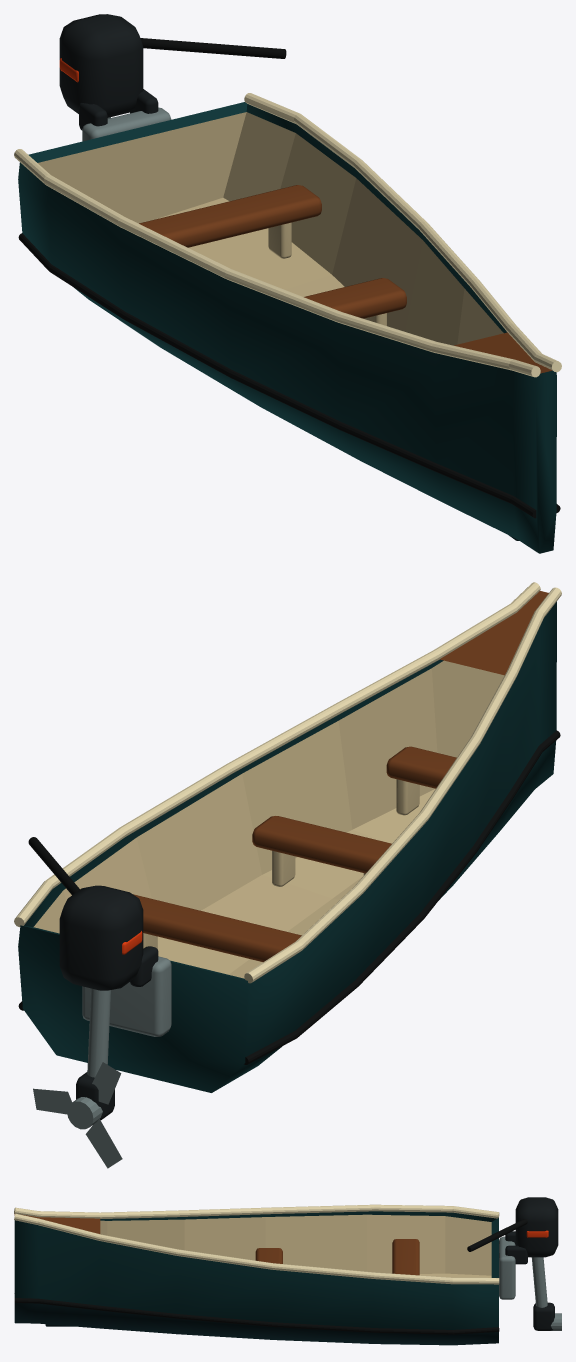
The model's file is low_poly_skiff.glb.
3 renders of one model, top to bottom at view 1: azimuth 30°, elevation 25°; view 2: azimuth 150°, elevation 25°; view 3: azimuth 270°, elevation 25°, orthographic. The views are drawn at different scales.
Visible parts, largest first — view 1: Skiff; view 2: Skiff; view 3: Skiff.
Boxes of the visible parts, x1=… form: Skiff: x1=14, y1=14, x2=561, y2=553; Skiff: x1=14, y1=582, x2=561, y2=1168; Skiff: x1=14, y1=1197, x2=561, y2=1345.
Bounding box in the file's own units: 1.48 × 1.41 × 4.61.
Materials: 1 (1 with a texture image).
